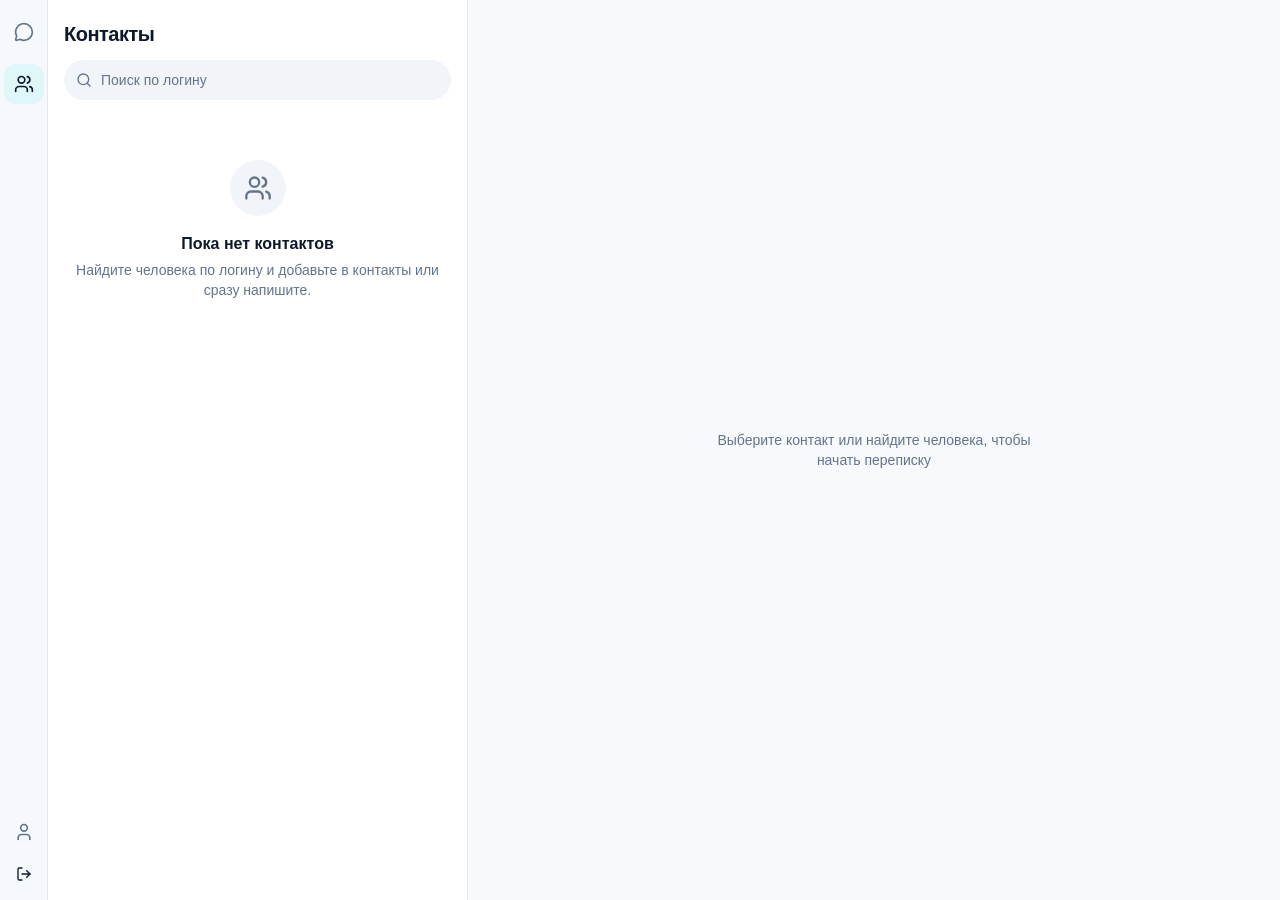
it: ContactsPage › shows an action error when add contact fails
Expected: the text "Пока нет контактов" is shown, [181,235,334,252]
Type "char" into the search field at {"x": 258, "y": 80}, box [64,60,451,100]
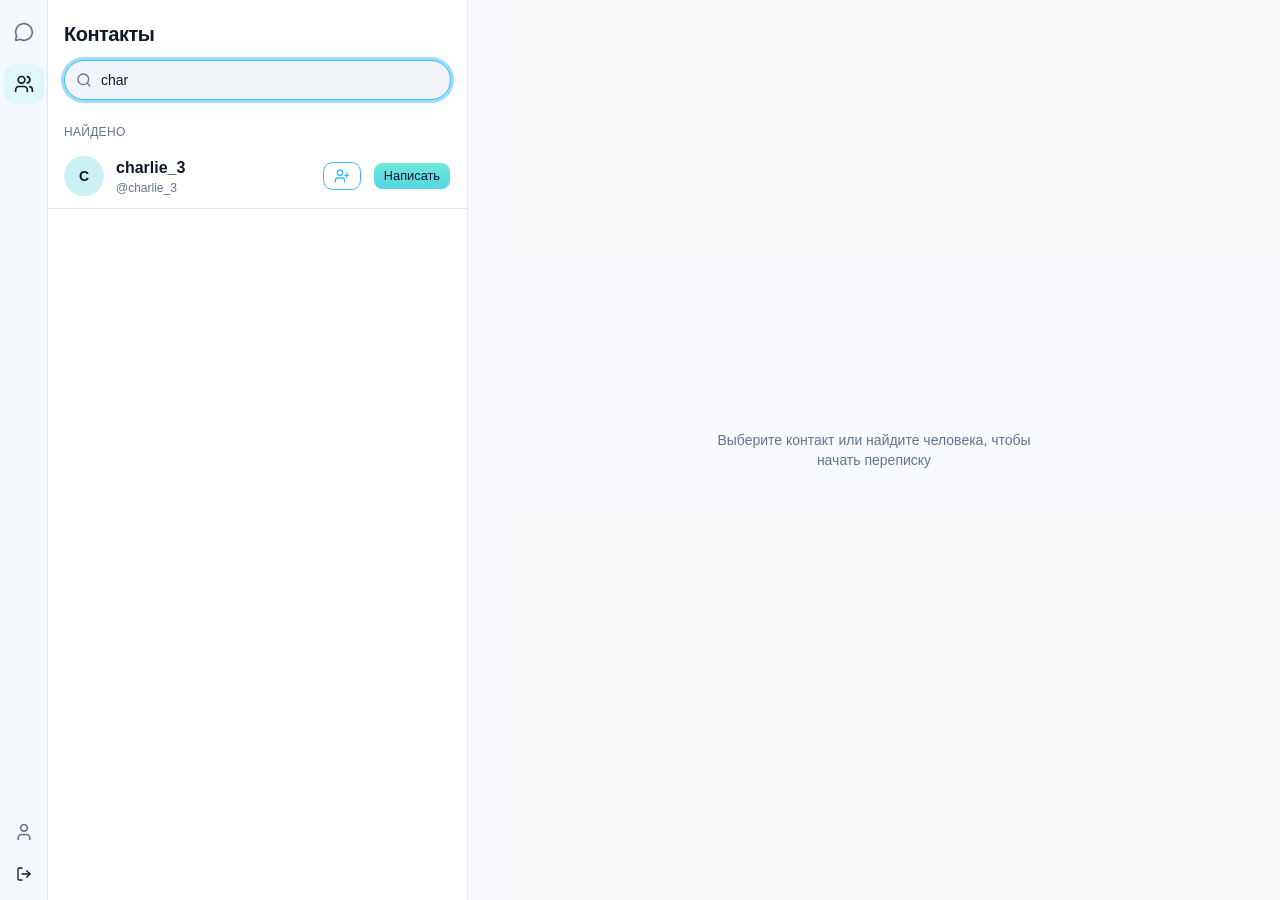
Expected: the button named "Добавить charlie_3" is shown
Click the button named "Добавить charlie_3" at {"x": 342, "y": 176}, box [323,162,361,190]
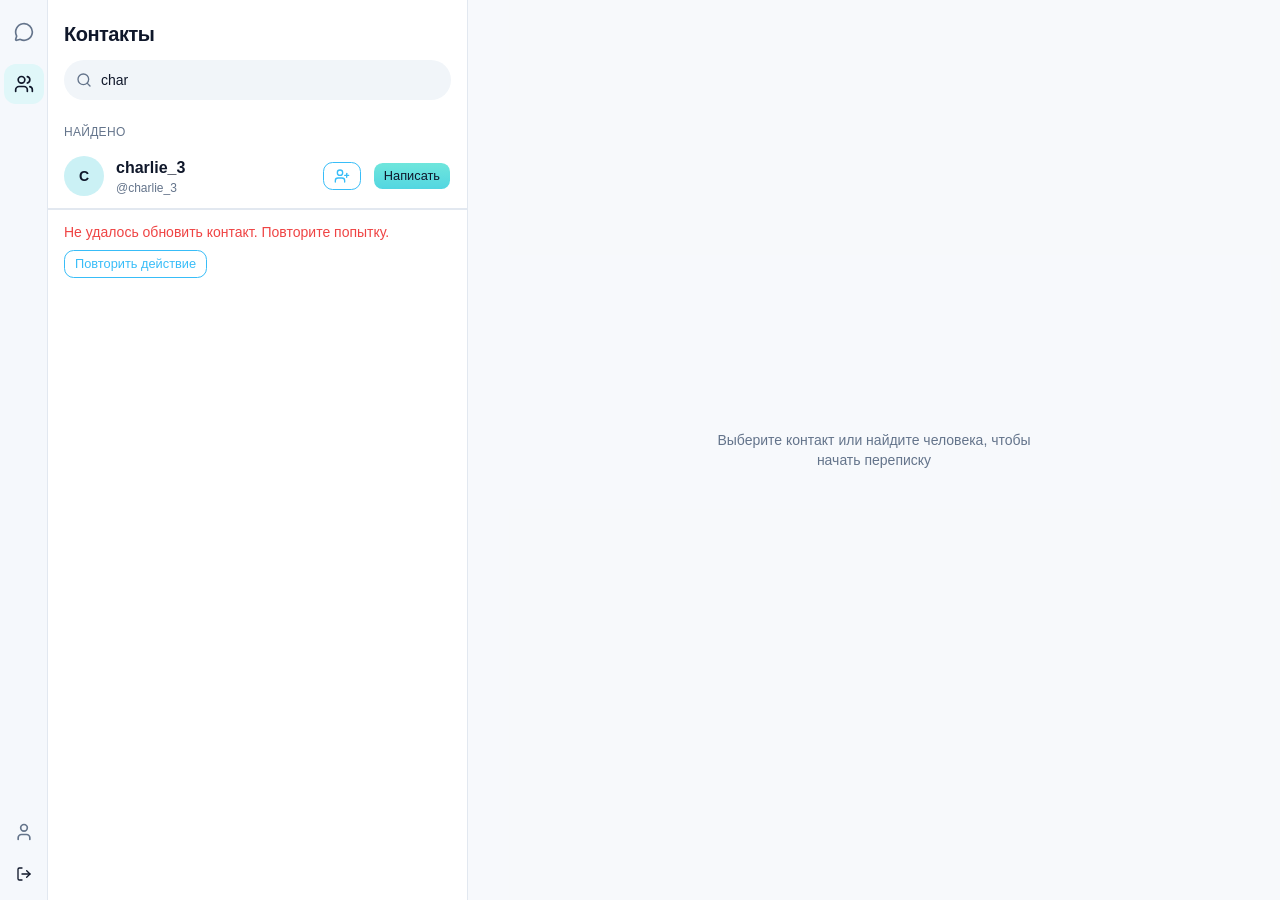
Expected: the message shows "Не удалось обновить контакт", [64,224,389,240]
